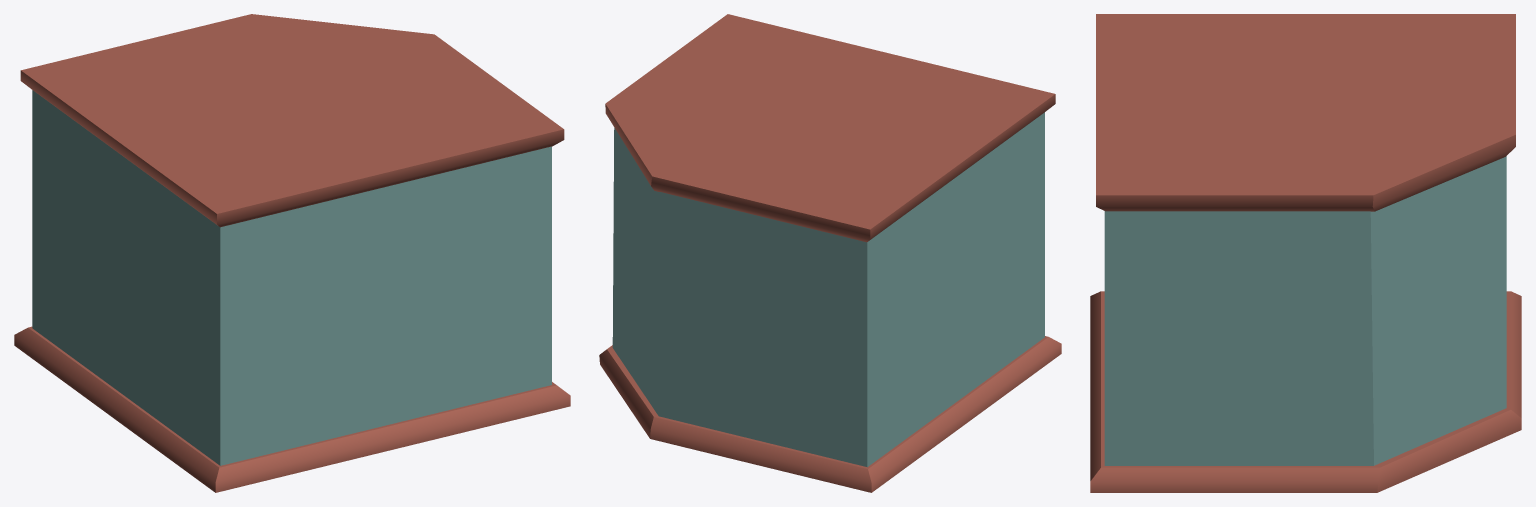
File: house clean.fbx
3 views of the same model, side by side, from view 1: azimuth 30°, elevation 25°; view 2: azimuth 150°, elevation 25°; view 3: azimuth 270°, elevation 25° (orthographic). The views are drawn at different scales.
Visible parts, largest first — view 1: House_Corner_box.001, ro0f.001, FLOOR.001; view 2: House_Corner_box.001, ro0f.001, FLOOR.001; view 3: House_Corner_box.001, ro0f.001, FLOOR.001.
Boxes of the visible parts, <box> form: House_Corner_box.001: <box>32,90,551,465</box>; ro0f.001: <box>20,14,564,227</box>; FLOOR.001: <box>14,326,570,492</box>; House_Corner_box.001: <box>612,112,1044,467</box>; ro0f.001: <box>605,14,1055,242</box>; FLOOR.001: <box>599,336,1061,492</box>; House_Corner_box.001: <box>1104,156,1506,465</box>; ro0f.001: <box>1096,14,1515,211</box>; FLOOR.001: <box>1090,291,1521,492</box>.
Size of the model in its own units: 144 by 107 by 141.
